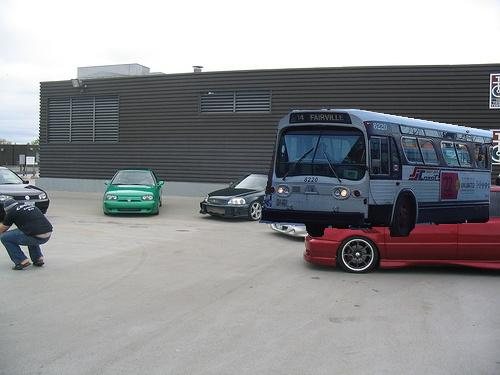tampered: (260, 110, 493, 237)
